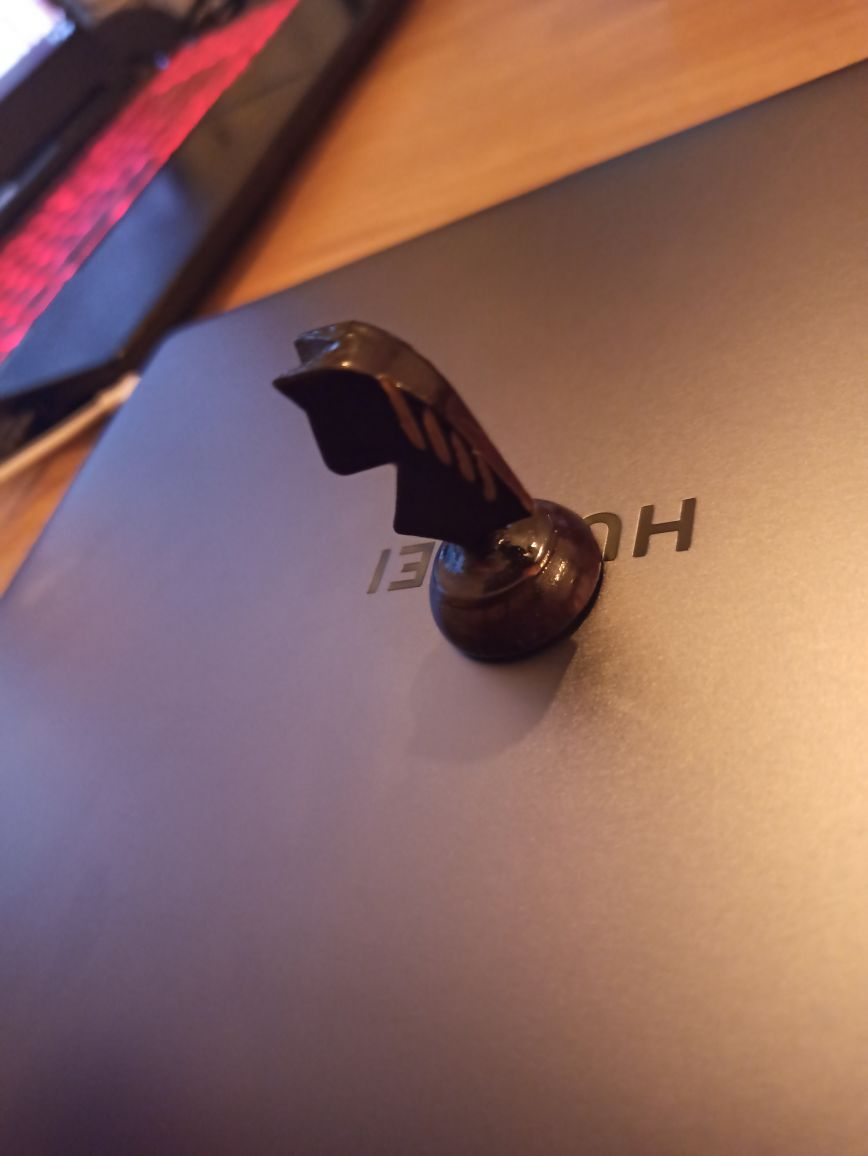bknight: (271, 318, 609, 662)
